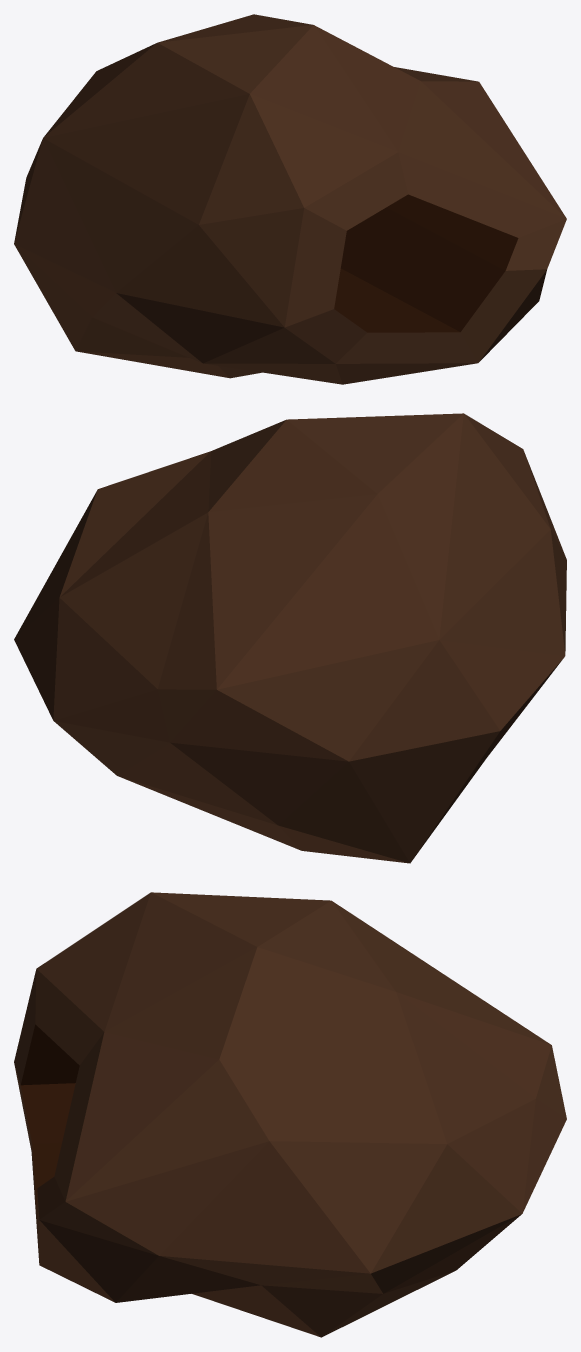
Rendered from Madriguera.fbx.
3 views of the same model, one above another, from view 1: azimuth 30°, elevation 25°; view 2: azimuth 150°, elevation 25°; view 3: azimuth 270°, elevation 25° (orthographic). The views are drawn at different scales.
Parts seen in each view (by area): view 1: Icosphere; view 2: Icosphere; view 3: Icosphere.
Part boxes in pixels (x1,y1,x2,y2): Icosphere: (14,14,566,384); Icosphere: (14,413,566,863); Icosphere: (14,892,566,1337).
Bounding box in the file's own units: 459 × 357 × 468.
1 material, 1 textured.
